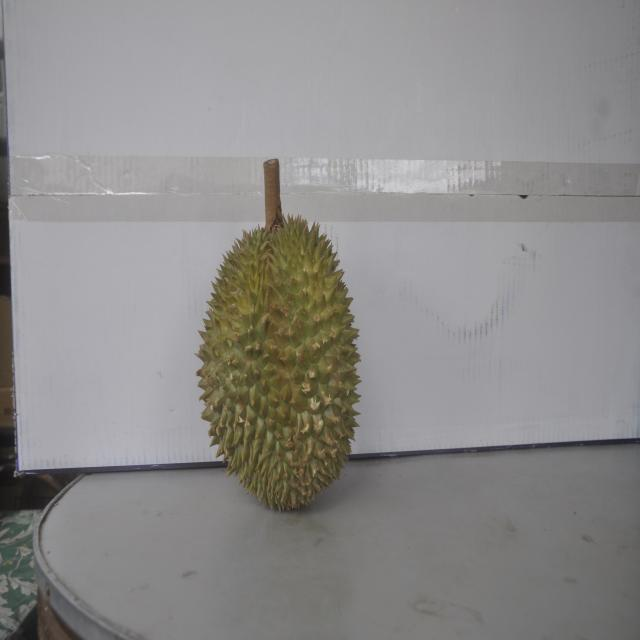mature: (196, 202, 365, 513)
